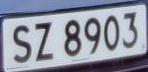0: (102, 9, 123, 57)
3: (121, 7, 140, 55)
8: (62, 13, 84, 63)
9: (82, 11, 104, 60)
S: (10, 19, 35, 69)
Z: (32, 17, 57, 67)
